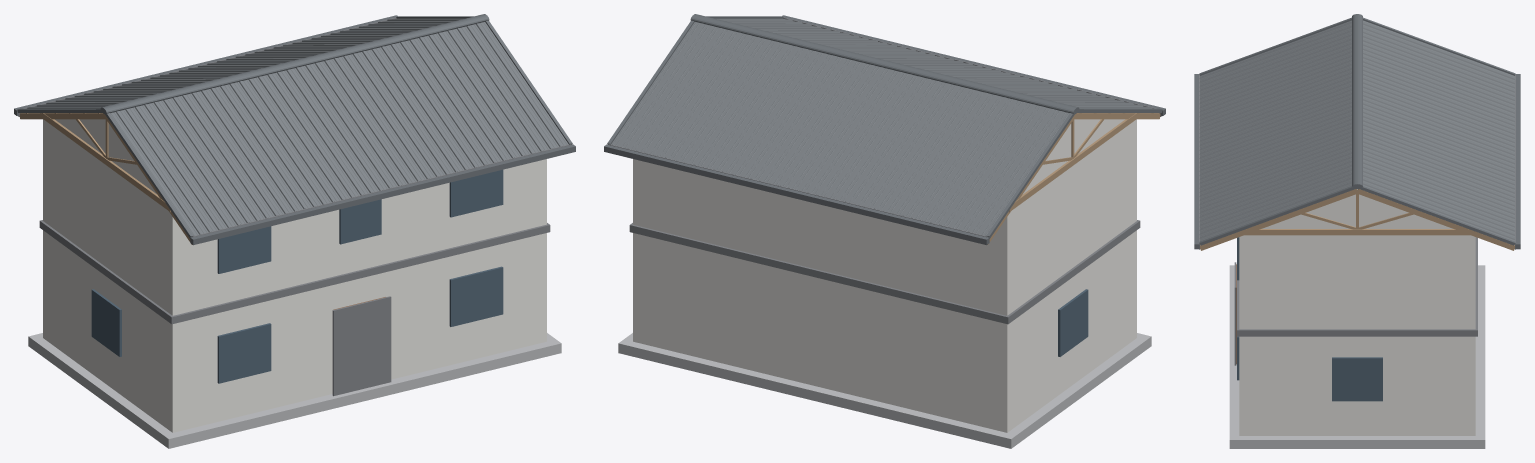
File: Pico_Rib_1220_Large_Two_Storey_10x6.glb
The picture shows the model from 3 angles, left to right: view 1: azimuth 30°, elevation 25°; view 2: azimuth 150°, elevation 25°; view 3: azimuth 270°, elevation 25°; orthographic projection. The views are drawn at different scales.
Parts seen in each view (by area): view 1: GroundFloor_Walls, Foundation, RoofSheet_04, RoofSheet_08, RoofSheet_05, RoofSheet_02, RoofSheet_09, RoofSheet_03, RoofSheet_06, RoofSheet_07, RoofSheet_01, RoofSheet_10 (+28 smaller); view 2: GroundFloor_Walls, Foundation, RoofSheet_14, RoofSheet_18, RoofSheet_15, RoofSheet_12, RoofSheet_19, RoofSheet_13, RoofSheet_16, RoofSheet_17, RoofSheet_11, RoofSheet_20 (+22 smaller); view 3: GroundFloor_Walls, Foundation, Gable_Wall_Right, RoofSheet_03, RoofSheet_04, RoofSheet_07, RoofSheet_13, RoofSheet_14, RoofSheet_17, RoofSheet_05, RoofSheet_08, RoofSheet_09 (+23 smaller).
Part boxes in pixels (x1,y1,x2,y2): GroundFloor_Walls: (43, 119, 546, 432); Foundation: (28, 333, 561, 448); RoofSheet_04: (222, 76, 343, 208); RoofSheet_08: (374, 39, 494, 171); RoofSheet_05: (260, 67, 381, 199); RoofSheet_02: (146, 95, 267, 227); RoofSheet_09: (412, 30, 532, 162); RoofSheet_03: (184, 86, 305, 217); RoofSheet_06: (298, 58, 419, 189); RoofSheet_07: (336, 49, 457, 180); RoofSheet_01: (110, 104, 229, 235); RoofSheet_10: (449, 22, 568, 153); GroundFloor_Walls: (633, 119, 1136, 432); Foundation: (618, 333, 1151, 448); RoofSheet_14: (836, 76, 957, 208); RoofSheet_18: (685, 39, 805, 171); RoofSheet_15: (798, 67, 919, 199); RoofSheet_12: (912, 95, 1033, 227); RoofSheet_19: (647, 30, 767, 162); RoofSheet_13: (874, 86, 995, 217); RoofSheet_16: (760, 58, 881, 189); RoofSheet_17: (722, 49, 843, 180); RoofSheet_11: (950, 104, 1069, 235); RoofSheet_20: (611, 22, 730, 153); GroundFloor_Walls: (1239, 235, 1475, 435); Foundation: (1229, 265, 1485, 448); Gable_Wall_Right: (1262, 189, 1452, 228); RoofSheet_03: (1199, 52, 1351, 124); RoofSheet_04: (1199, 69, 1351, 141); RoofSheet_07: (1199, 120, 1351, 191); RoofSheet_13: (1363, 52, 1515, 124); RoofSheet_14: (1363, 69, 1515, 141); RoofSheet_17: (1363, 120, 1515, 191); RoofSheet_05: (1199, 86, 1351, 158); RoofSheet_08: (1199, 136, 1351, 208); RoofSheet_09: (1199, 153, 1351, 225).
Bounding box in the file's own units: 10.5 × 7.36 × 8.3.
